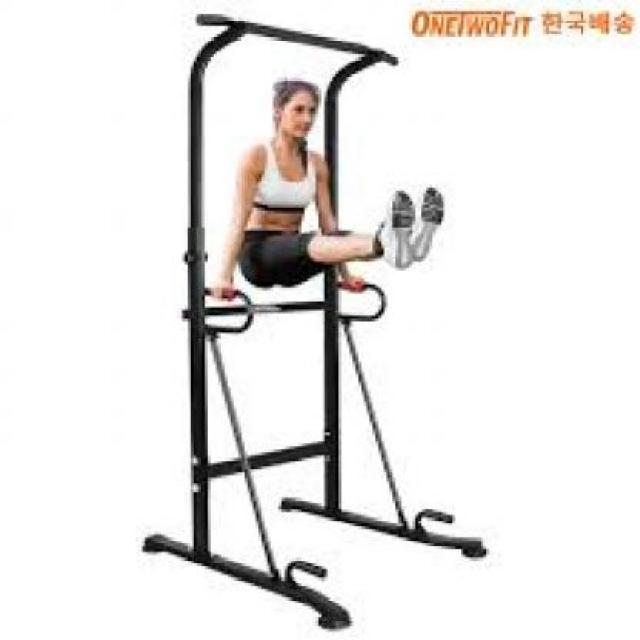chinning dipping: (142, 40, 488, 634)
